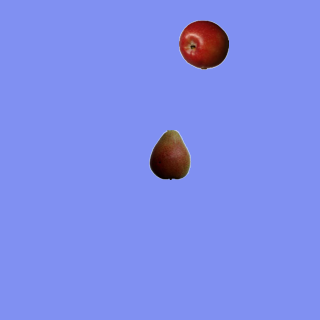Apple Braeburn: (178, 19, 228, 69)
Pear Forelle: (144, 129, 194, 179)
